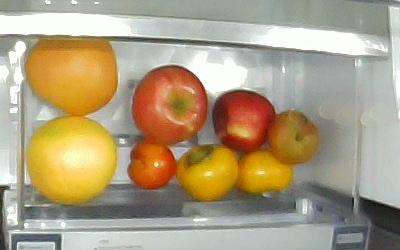apple: (132, 64, 208, 144), (211, 89, 276, 151)
grapefruit: (28, 115, 117, 204), (23, 37, 117, 116)
persimmon: (176, 144, 239, 201), (239, 150, 294, 196)
prune: (268, 111, 320, 164), (126, 141, 175, 188)
